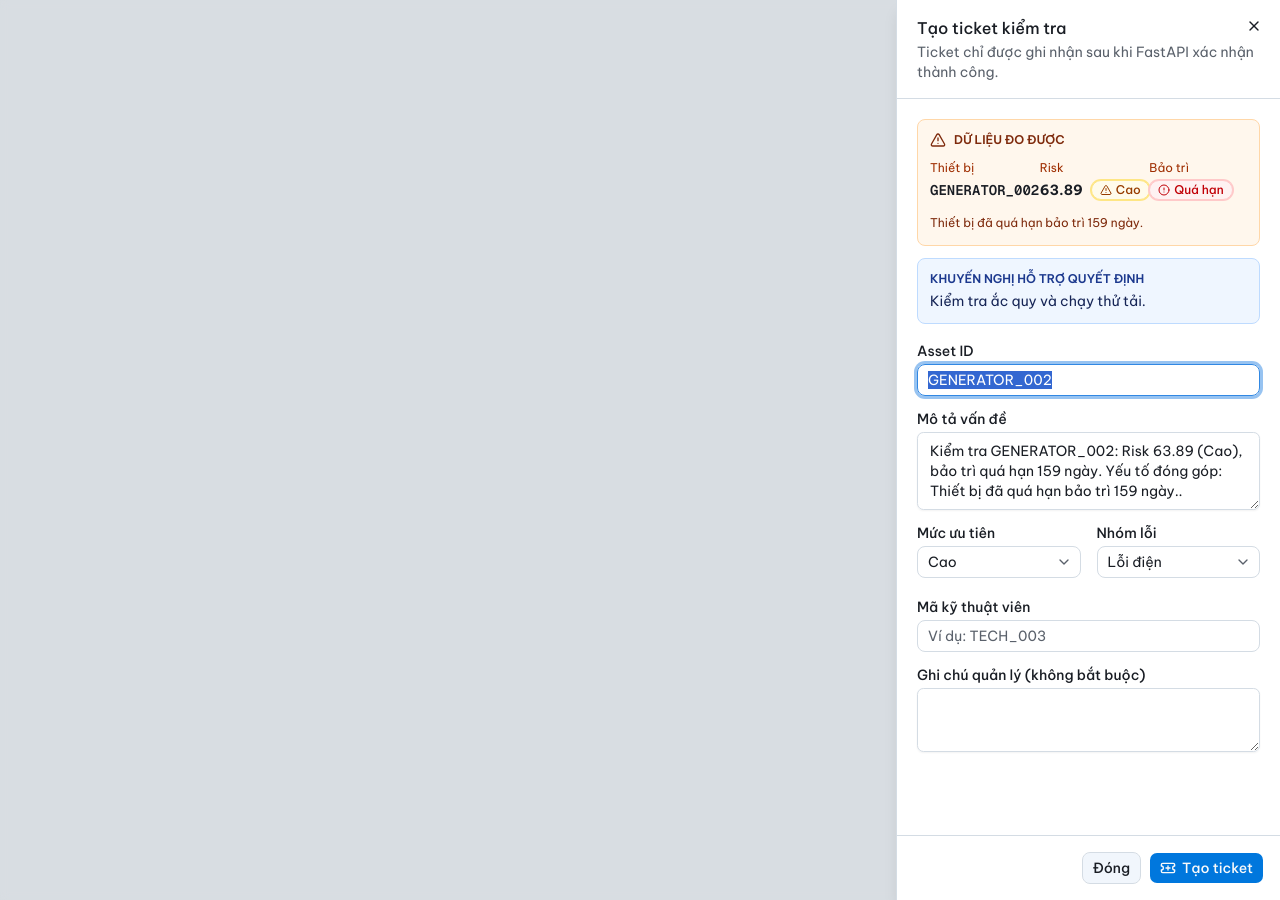
Test: live maintenance workflow forms › shows an ambiguous offline write without encouraging blind resubmission
Type "TECH_003" into the field labelled "Mã kỹ thuật viên".
click(1088, 636); type("TECH_003")  # box [917,620,1260,652]
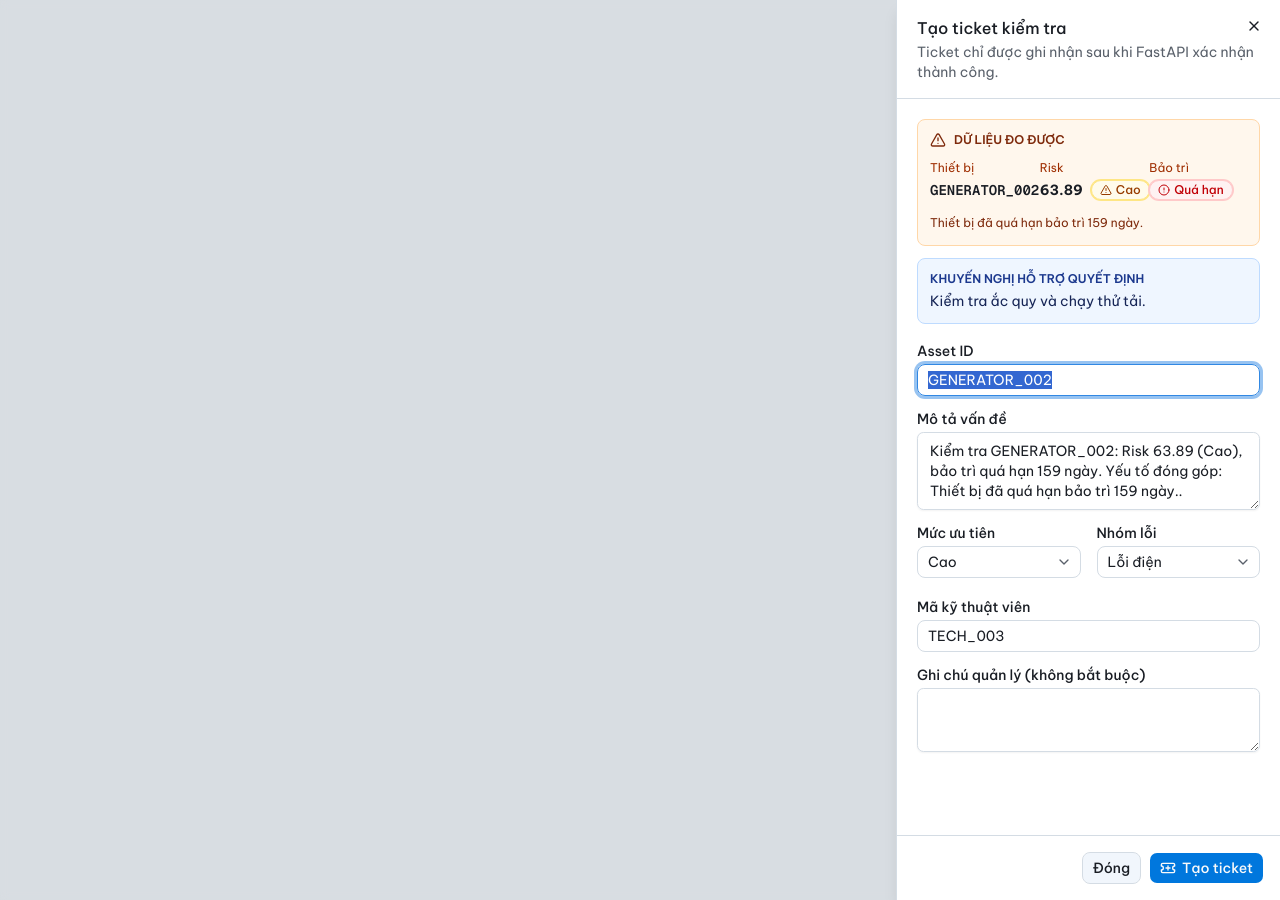
Click the button "Tạo ticket".
click(1206, 868)  # box [1149,852,1264,884]
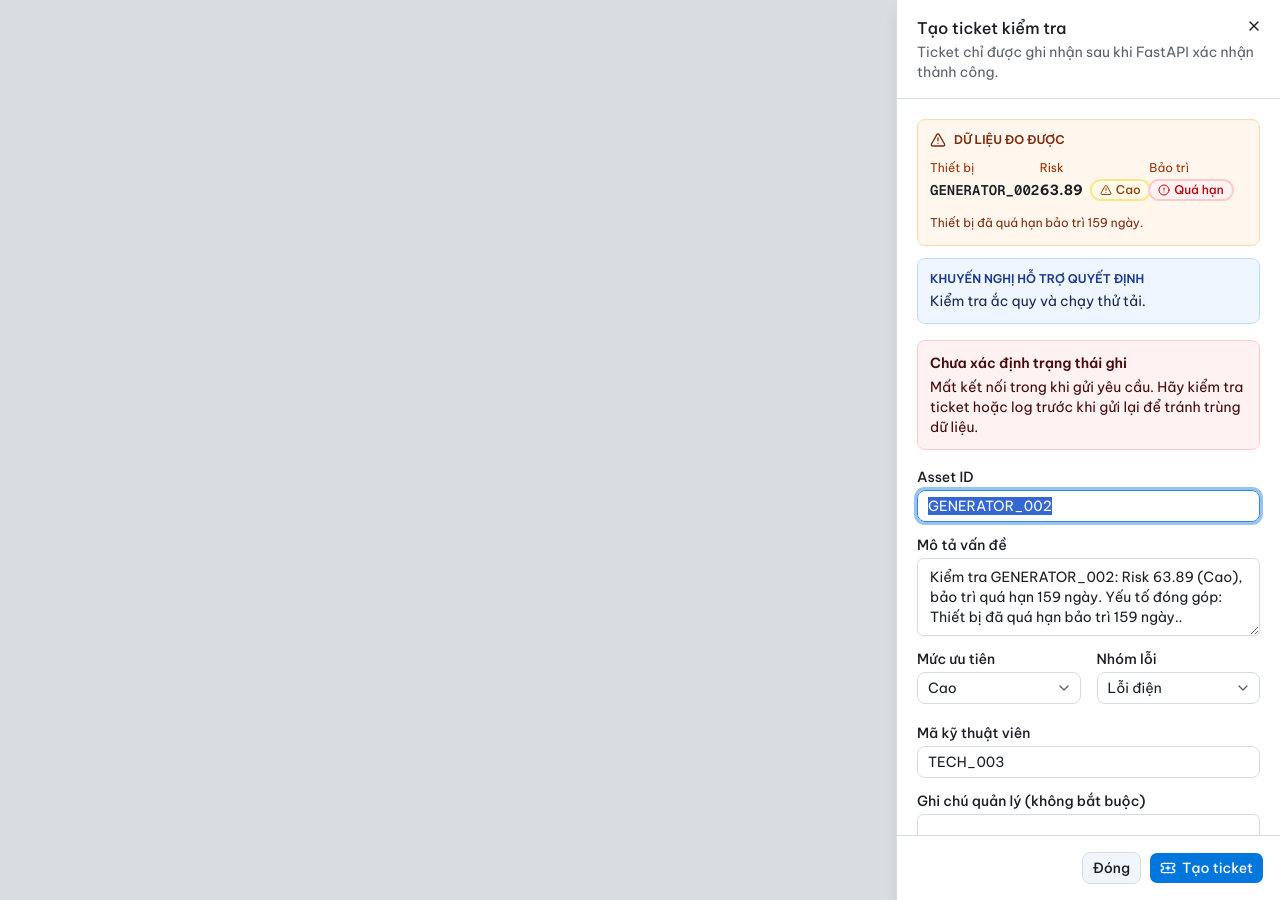
Check: the text "Chưa xác định trạng thái ghi" is shown, box [930,354,1127,372]
Check: the text "kiểm tra ticket hoặc log trước khi gửi lại" is shown, box [930,378,1243,436]
